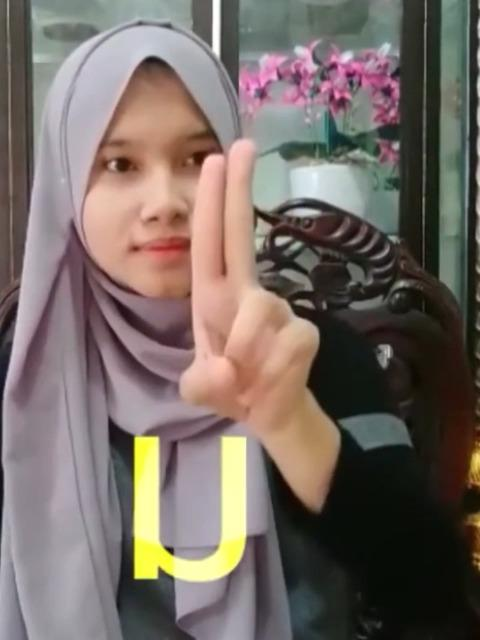U: (165, 131, 327, 425)
